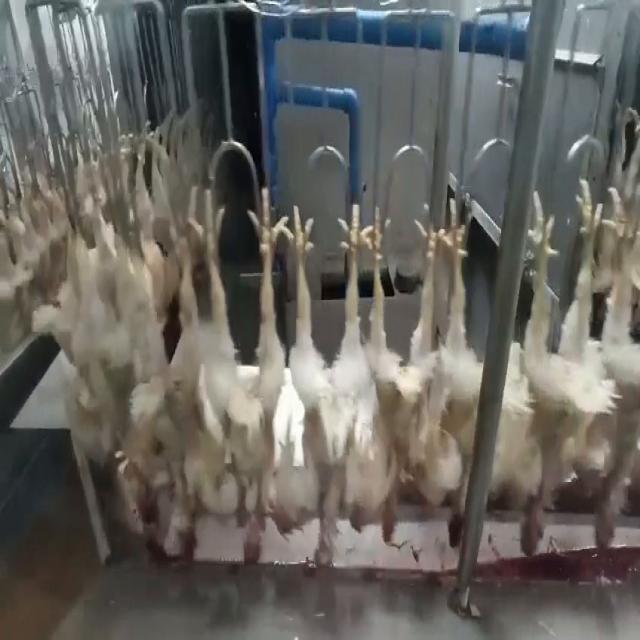chicken: (499, 176, 597, 563), (196, 180, 282, 572), (359, 206, 446, 548), (289, 200, 362, 576), (139, 168, 202, 564), (420, 203, 492, 548), (582, 172, 640, 554)
